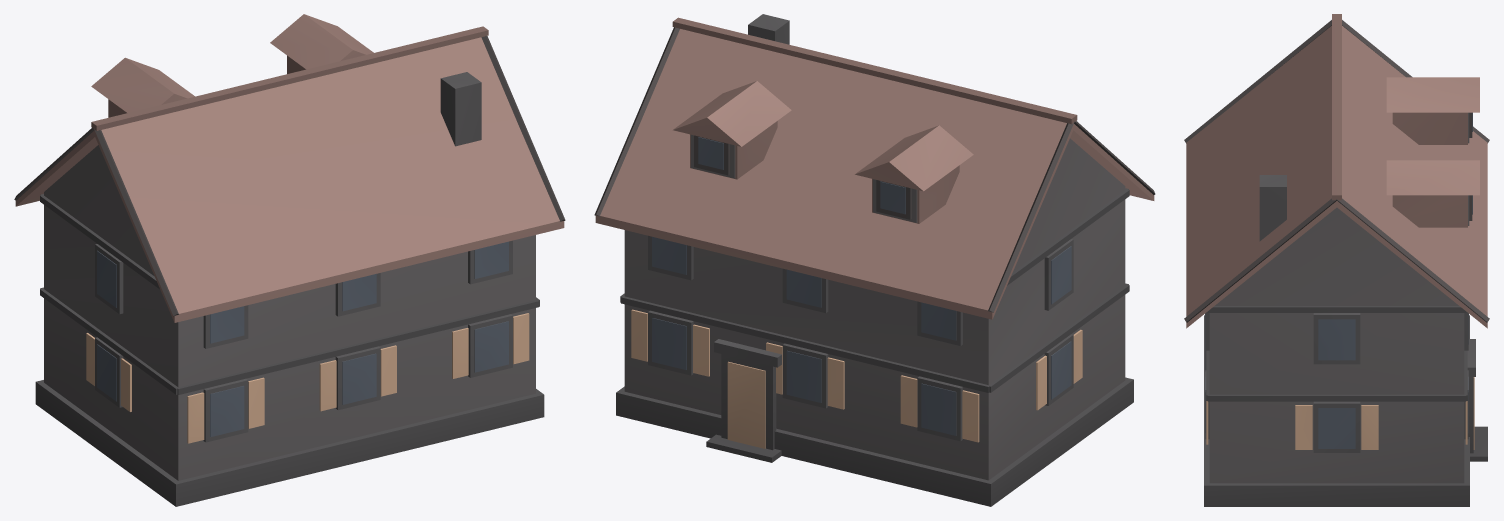
The model's file is hall_cinder.gltf.
3 views of the same model, side by side, from view 1: azimuth 30°, elevation 25°; view 2: azimuth 150°, elevation 25°; view 3: azimuth 270°, elevation 25° (orthographic). The views are drawn at different scales.
Visible parts, largest first — view 1: Body; view 2: Body; view 3: Body.
Boxes of the visible parts, x1,y1,x2,y2 form: Body: (14, 14, 565, 506); Body: (594, 14, 1155, 506); Body: (1184, 14, 1489, 506).
Size of the model in its own units: 10.97 by 8.94 by 7.81.
